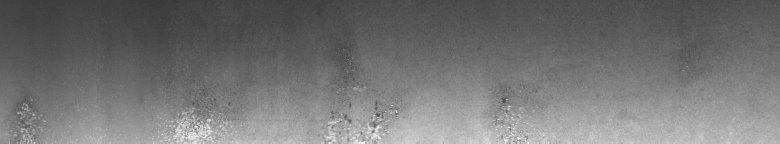hc: (319, 60, 404, 136)
